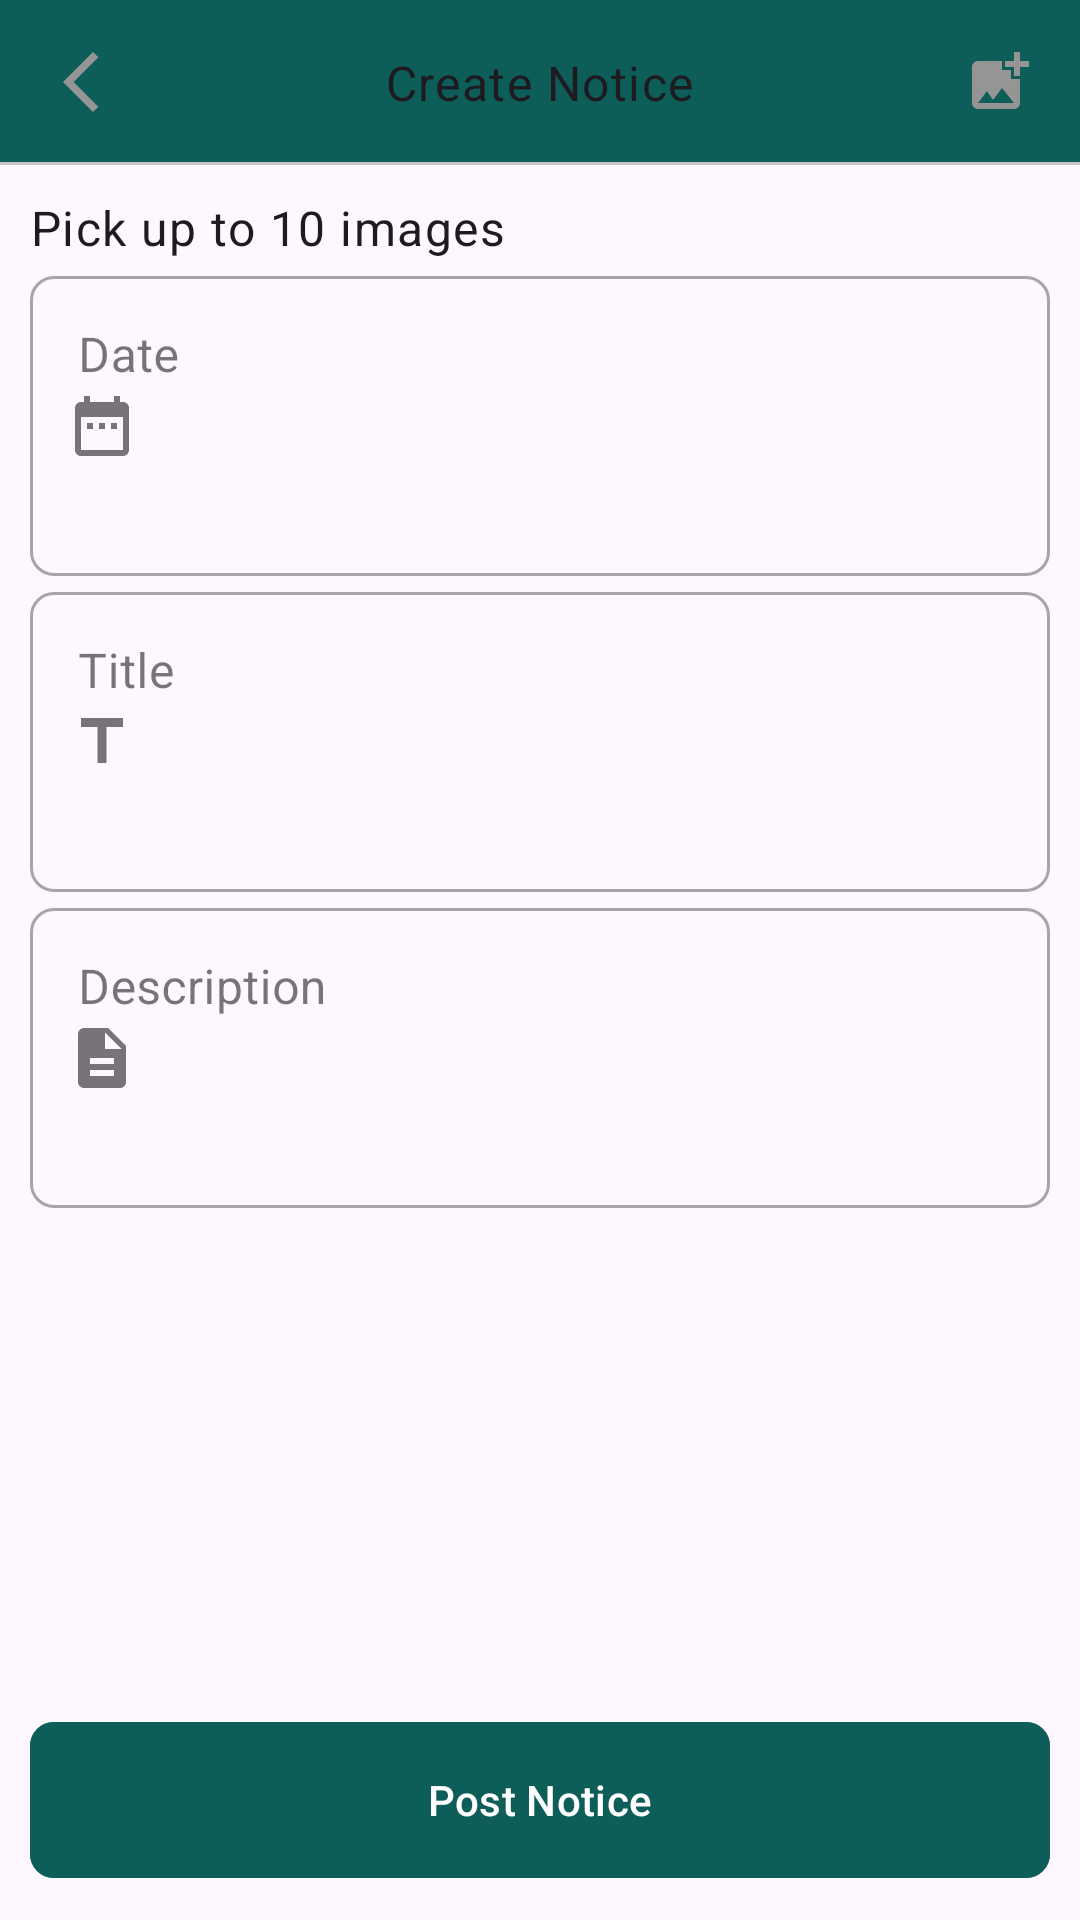

Icon click points for this 1080px x 1920px phone screenshot, format (x=x, y=y):
add photo alternate: (x=999, y=82)
arrow back: (x=81, y=82)
